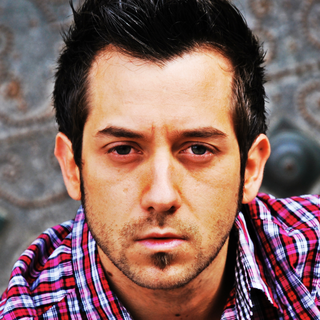eye: (171, 135, 221, 165), (98, 138, 146, 164)
